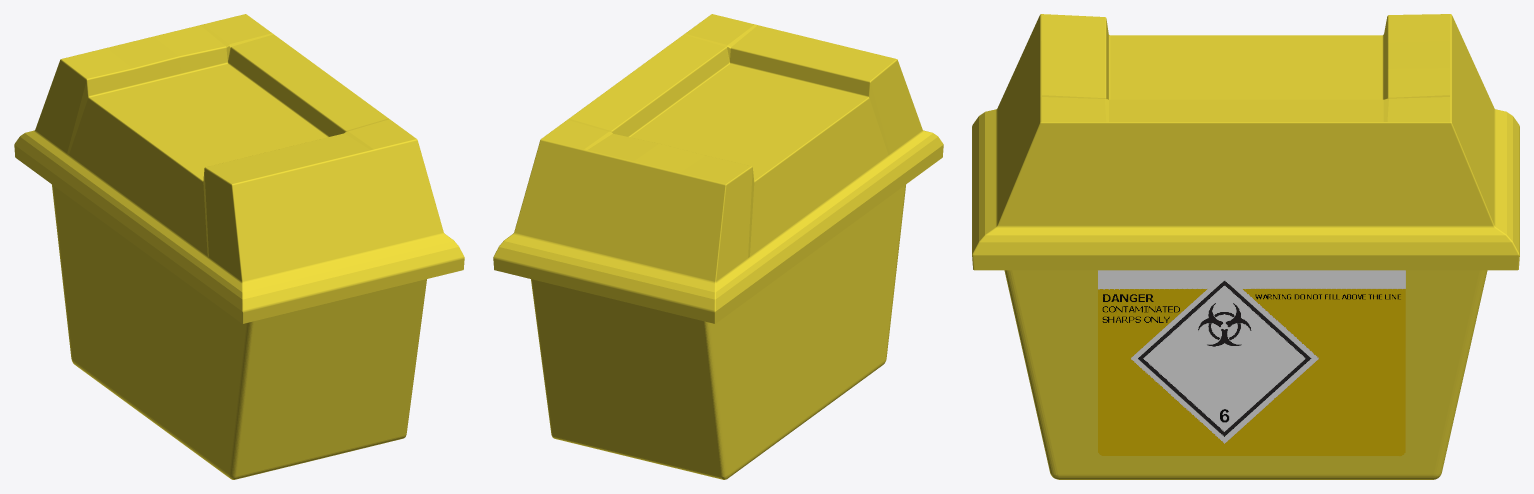
Rendered from sharpsafe_box1.fbx.
3 views of the same model, side by side, from view 1: azimuth 30°, elevation 25°; view 2: azimuth 150°, elevation 25°; view 3: azimuth 270°, elevation 25° (orthographic). The views are drawn at different scales.
Visible parts, largest first — view 1: Top, Box; view 2: Top, Box; view 3: Top, Box.
Boxes of the visible parts, <box> form: Top: <box>14,14,464,323</box>; Box: <box>52,184,426,479</box>; Top: <box>493,14,943,323</box>; Box: <box>531,185,905,479</box>; Top: <box>972,14,1519,270</box>; Box: <box>1004,270,1487,479</box>.
Size of the model in its own units: 14.96 by 19.45 by 26.64.
